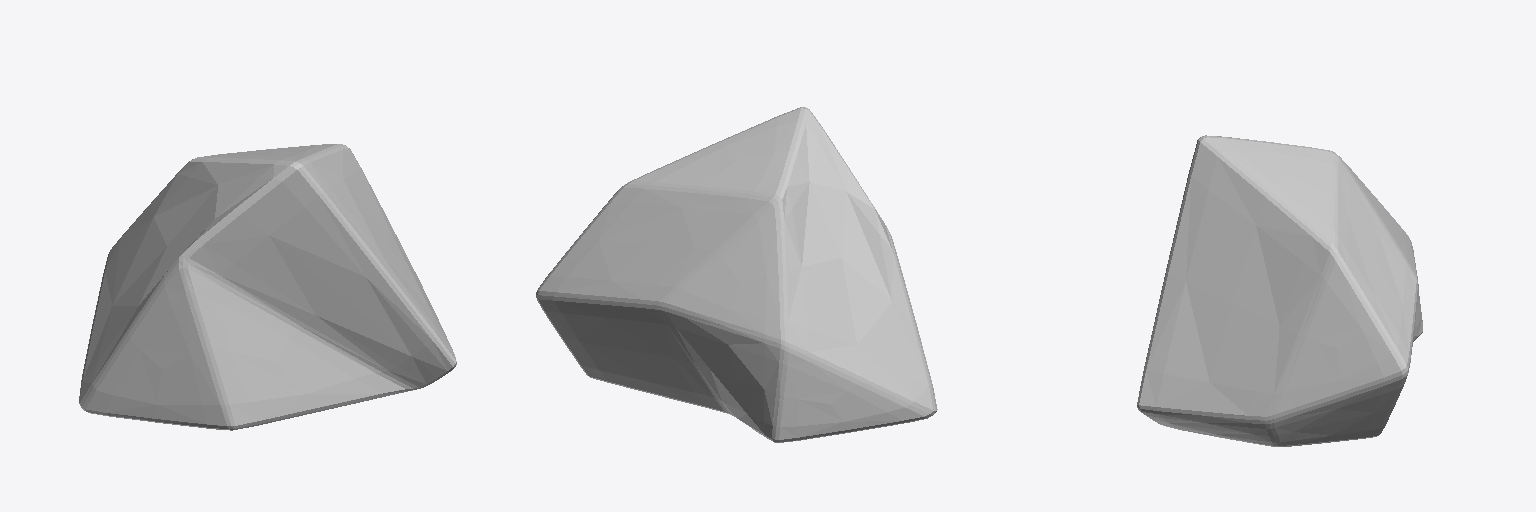
Rendered from rock_tree3_01.obj.
3 renders of one model, left to right at view 1: azimuth 30°, elevation 25°; view 2: azimuth 150°, elevation 25°; view 3: azimuth 270°, elevation 25°, orthographic.
Parts seen in each view (by area): view 1: rock_tree3_01 Rocks; view 2: rock_tree3_01 Rocks; view 3: rock_tree3_01 Rocks.
Boxes of the visible parts, x1,y1,x2,y2 form: rock_tree3_01 Rocks: [79, 144, 456, 430]; rock_tree3_01 Rocks: [536, 107, 937, 442]; rock_tree3_01 Rocks: [1137, 135, 1422, 446].
Size of the model in its own units: 1.06 by 0.7123 by 0.7693.